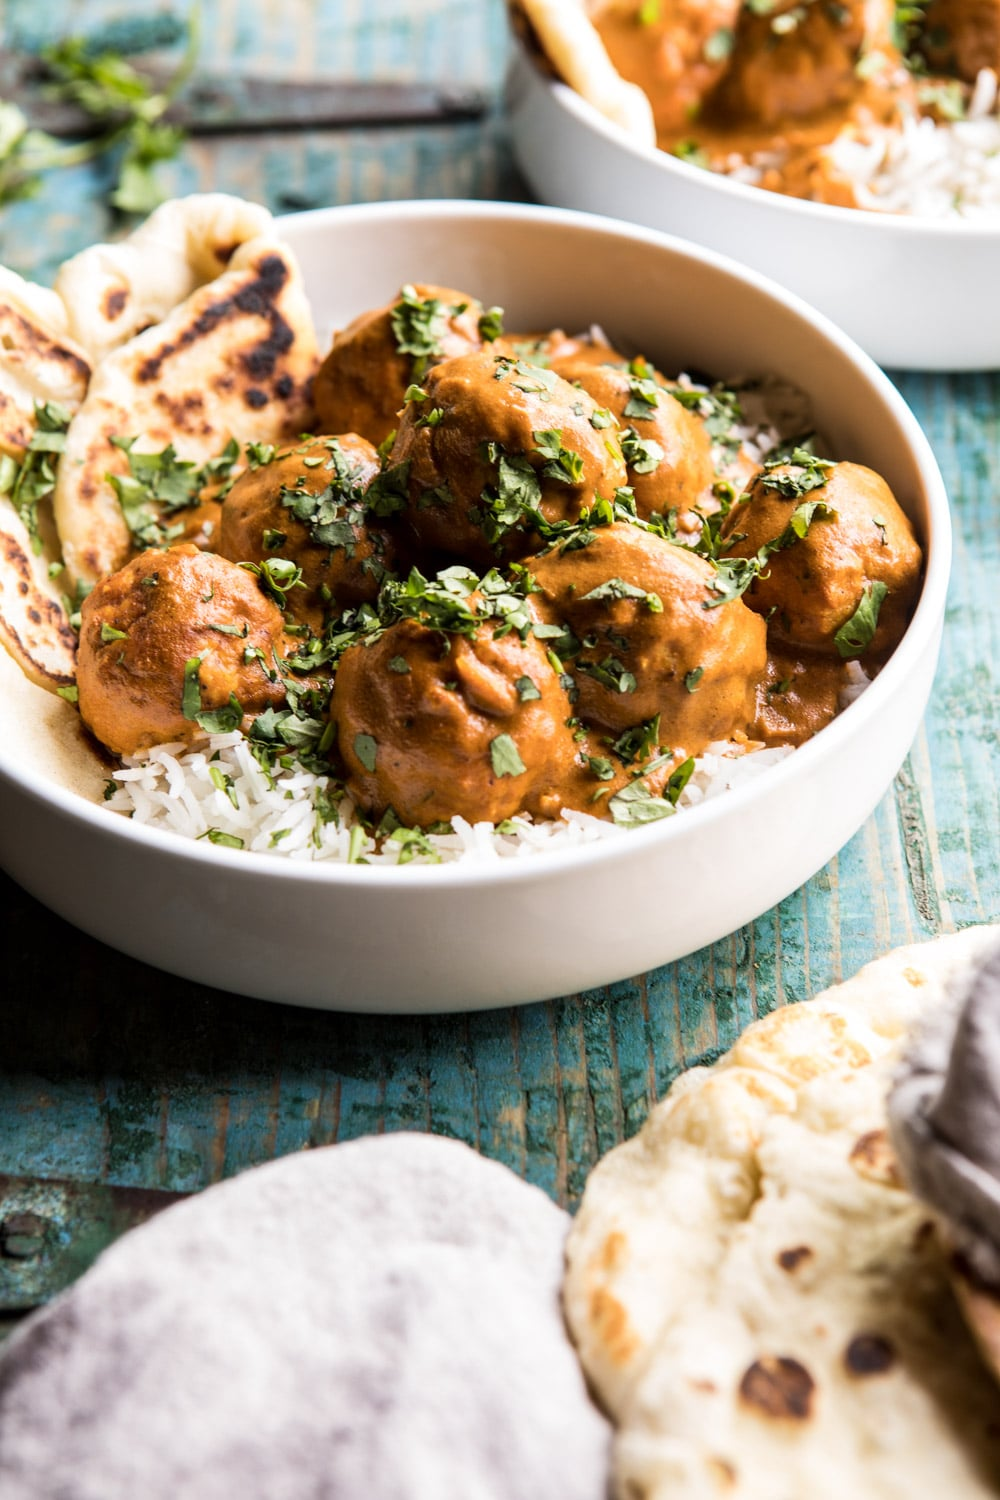meatballs: (379, 330, 735, 652), (335, 557, 570, 807)
